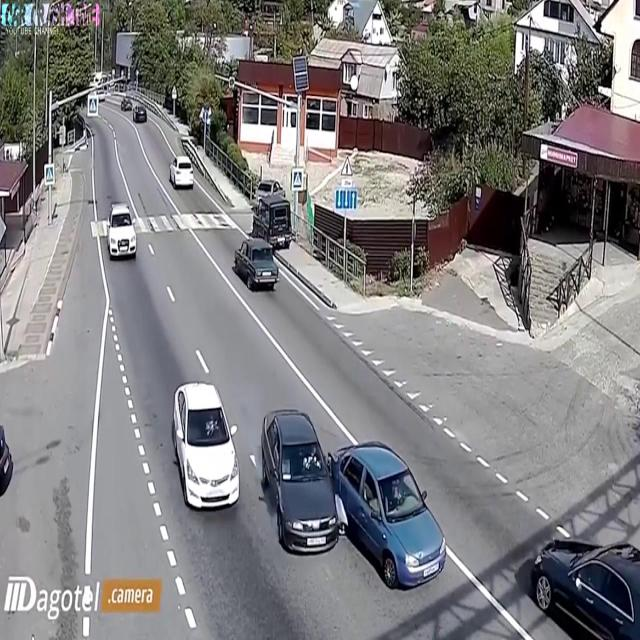accident: (258, 395, 452, 598)
non_accident: (229, 170, 297, 302)
